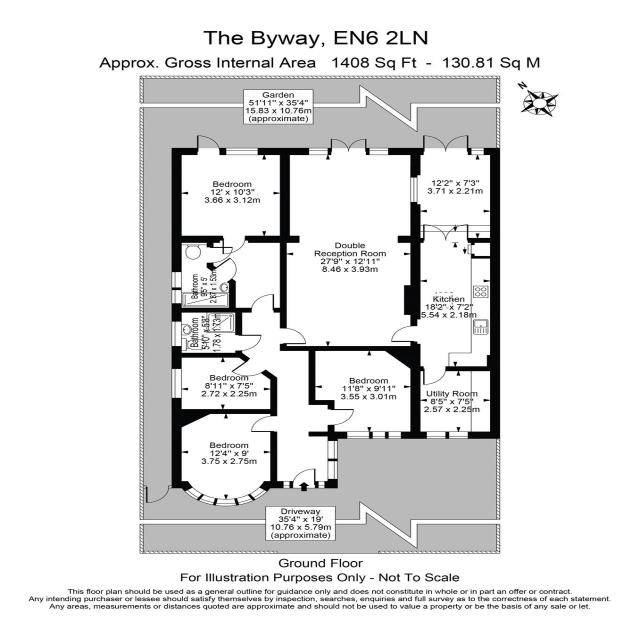DOOR: (210, 257, 238, 283), (230, 358, 267, 377), (390, 325, 418, 343), (196, 135, 221, 155), (292, 468, 316, 488), (222, 235, 246, 255), (279, 328, 307, 345), (250, 294, 275, 313), (327, 409, 354, 426), (251, 416, 278, 433), (235, 334, 262, 351), (423, 366, 446, 385)
DOUBLE DOOR: (421, 134, 471, 156), (420, 223, 470, 242), (328, 136, 370, 155)
ROOM: (279, 138, 421, 351), (390, 223, 501, 386), (171, 135, 290, 255), (308, 346, 421, 439), (171, 409, 278, 507), (171, 352, 277, 414)
WINDOW: (183, 486, 268, 507), (171, 368, 182, 399), (171, 321, 182, 347), (225, 148, 258, 155), (327, 460, 338, 480), (410, 176, 418, 203), (327, 440, 338, 459), (346, 431, 370, 439), (171, 271, 182, 288), (448, 431, 469, 439), (308, 147, 329, 155), (171, 289, 182, 304), (426, 432, 446, 439), (369, 148, 389, 155), (372, 431, 386, 439), (388, 431, 402, 439), (318, 481, 325, 489), (283, 481, 290, 489)
